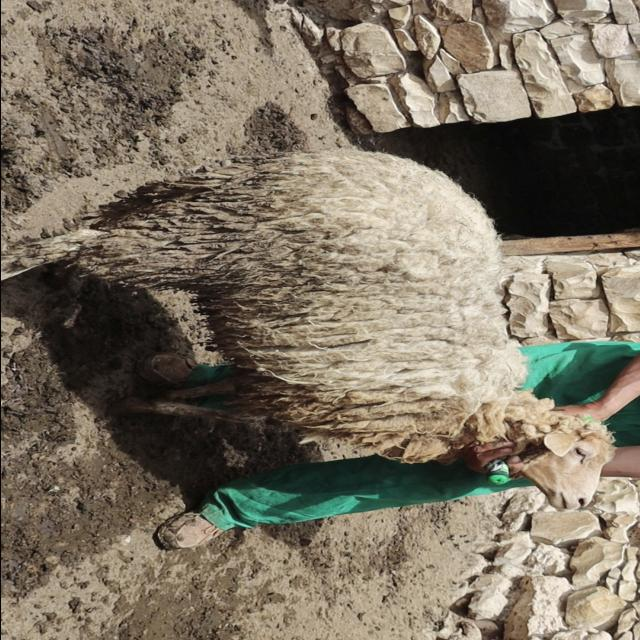Score_2: (1, 149, 613, 510)
